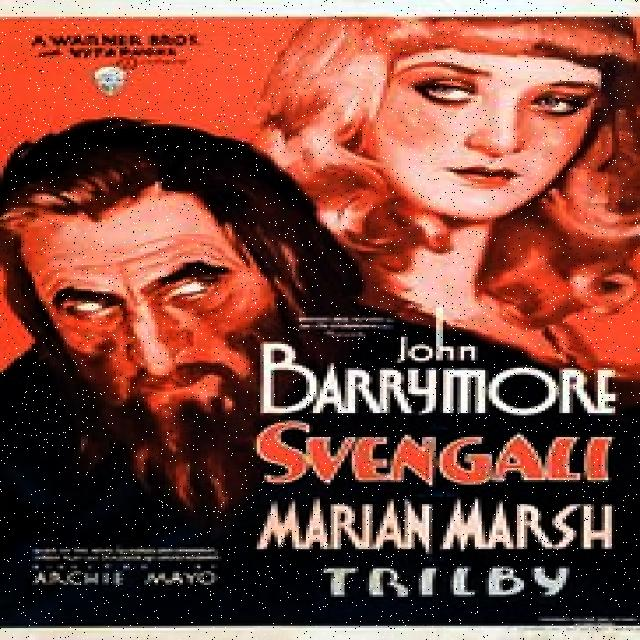movie-judul: (244, 416, 631, 491)
picture: (271, 19, 640, 311), (0, 133, 246, 539)
